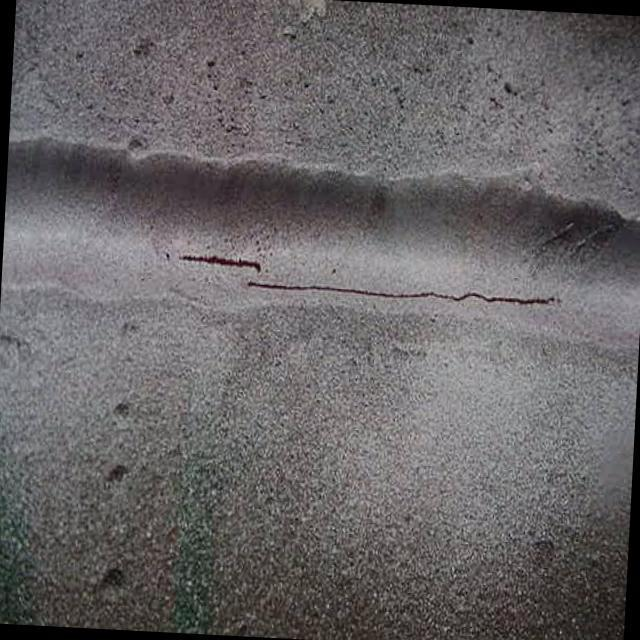defect: (238, 276, 569, 312), (170, 249, 264, 278)
